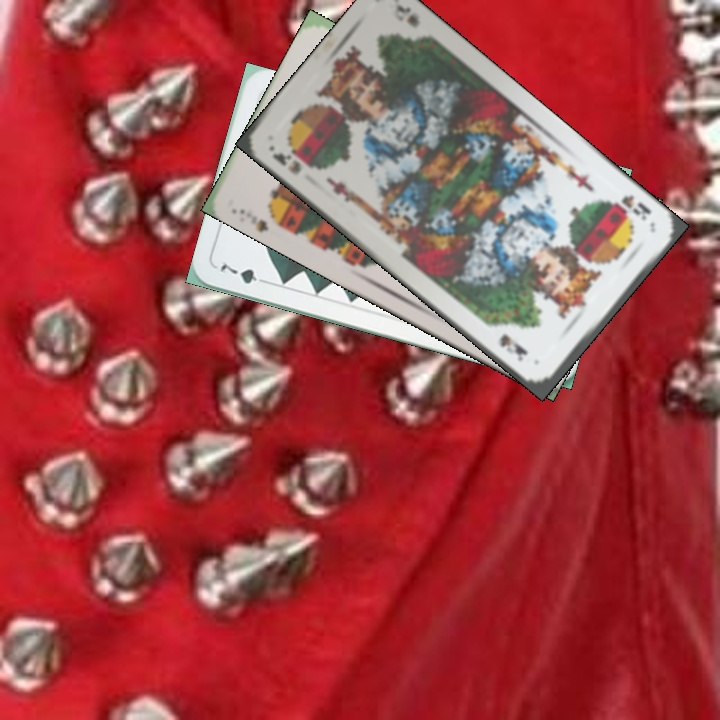G7: (215, 259, 273, 287)
S9: (235, 204, 272, 234)
SK: (602, 190, 654, 224), (268, 146, 315, 177)
